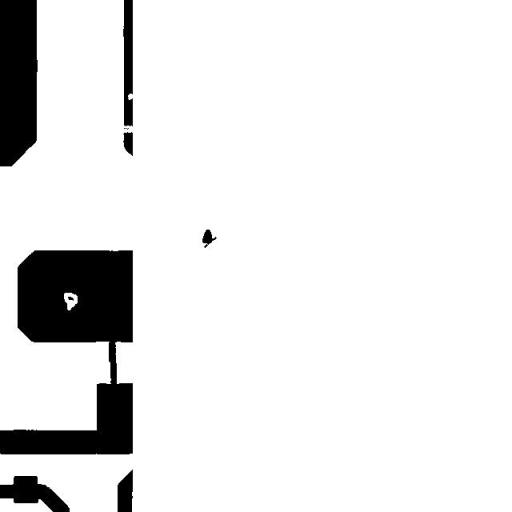copper: (194, 222, 224, 255)
mousebite: (120, 86, 141, 107)
open: (110, 116, 146, 142)
pin-hole: (56, 284, 85, 318)
short: (101, 331, 124, 395)
